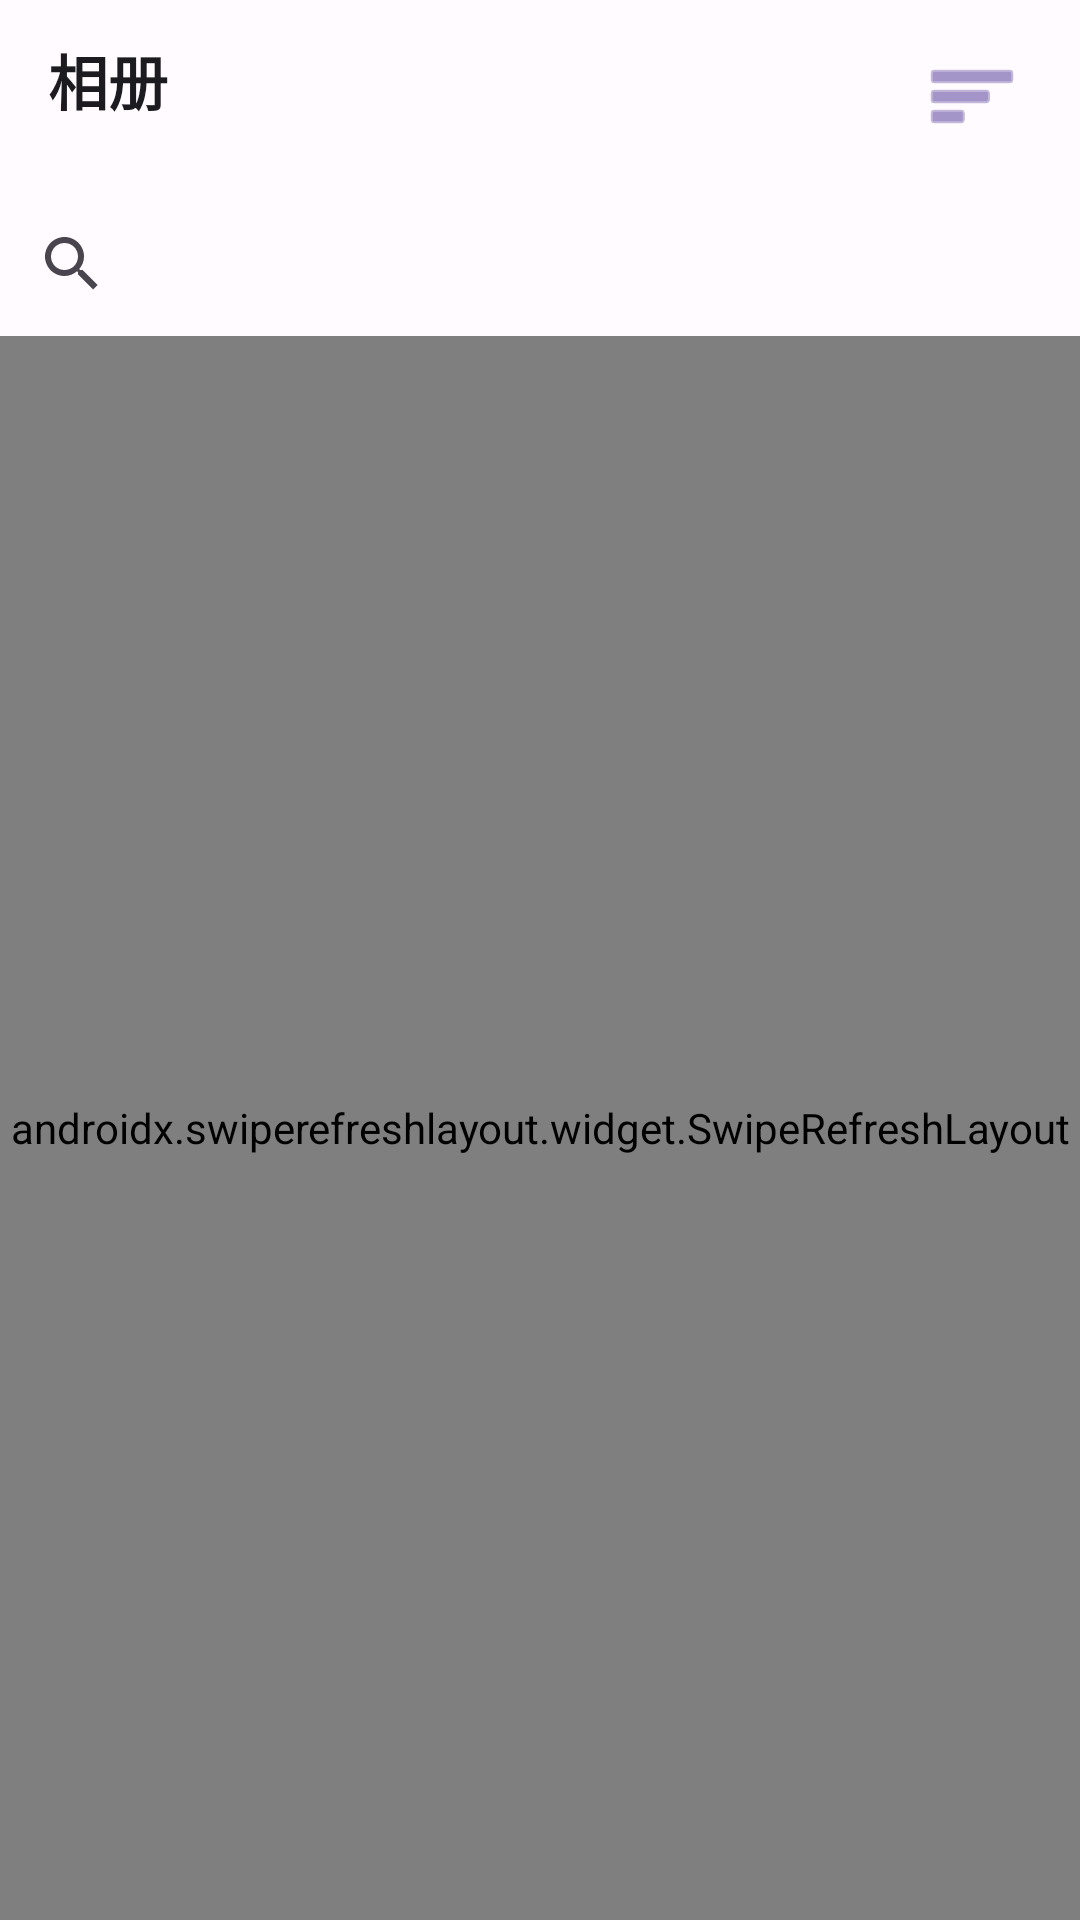

Icon bounding boxes for this 1080×1920 phone screenshot, format (left=x1, top=y1, right=x2, bottom=y2):
筛选: (left=931, top=70, right=1013, bottom=123)
